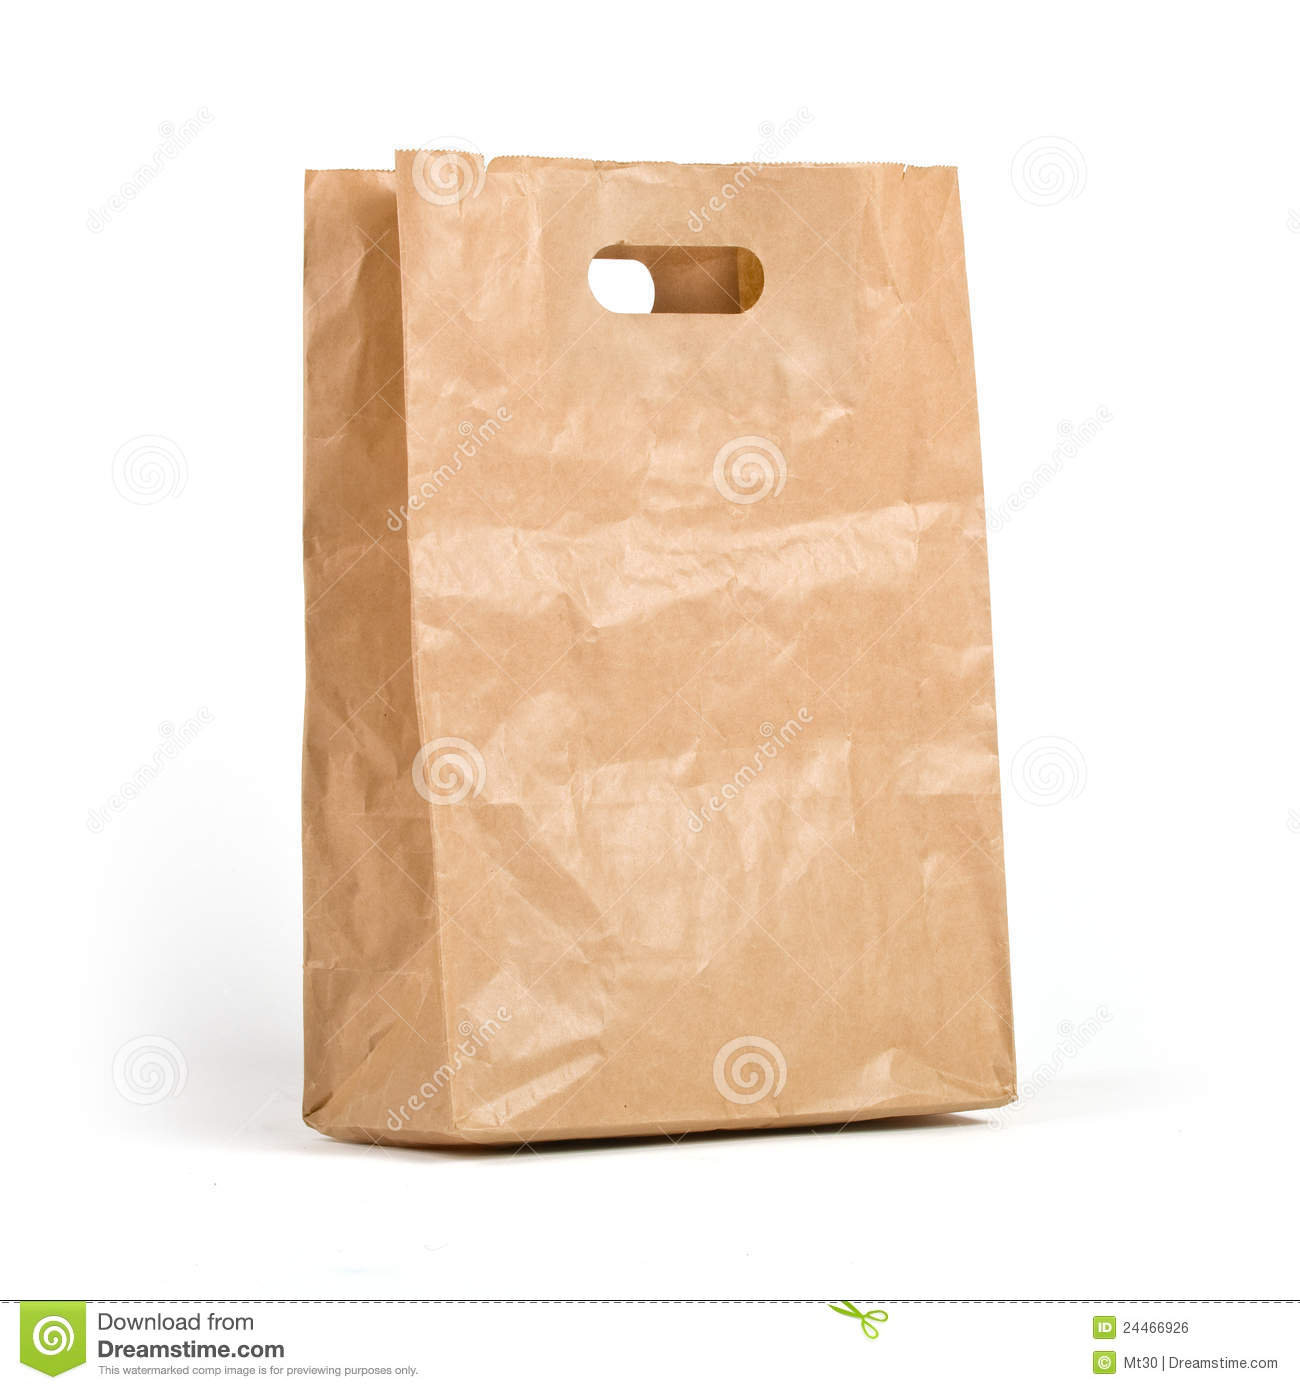flexible: (274, 149, 1041, 1151)
